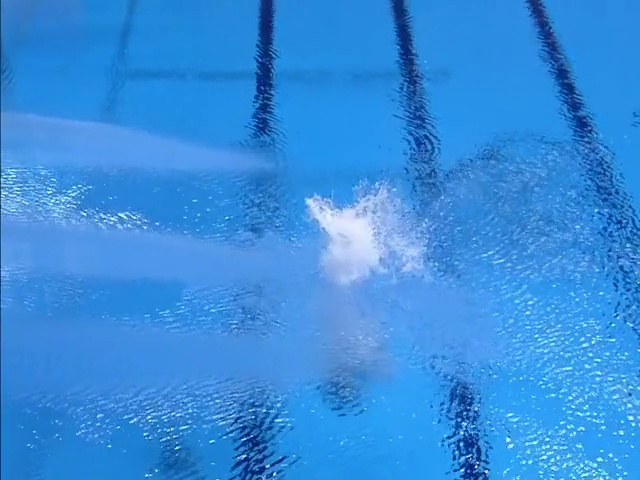splash: (303, 174, 431, 288)
